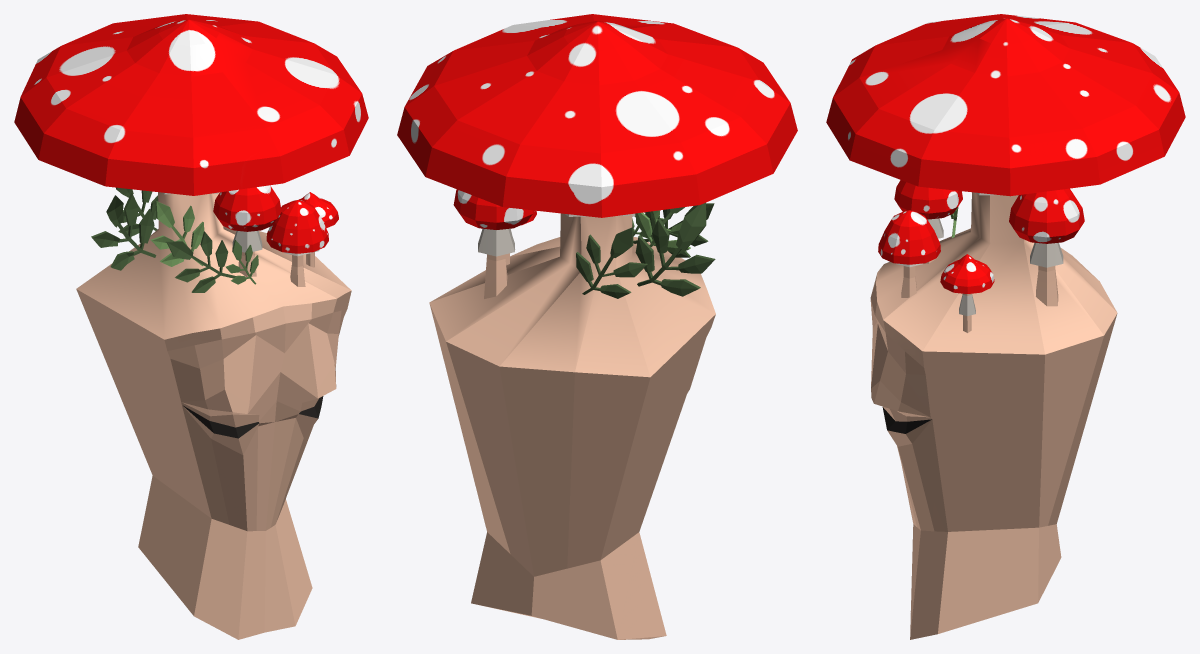
Rendered from Mushroom_head_03.fbx.
3 renders of one model, left to right at view 1: azimuth 30°, elevation 25°; view 2: azimuth 150°, elevation 25°; view 3: azimuth 270°, elevation 25°, orthographic. The views are drawn at different scales.
Visible parts, largest first — view 1: Mushroom_head_03; view 2: Mushroom_head_03; view 3: Mushroom_head_03.
Boxes of the visible parts, x1,y1,x2,y2 form: Mushroom_head_03: (14,14,368,639); Mushroom_head_03: (397,14,797,639); Mushroom_head_03: (826,14,1185,639).
Bounding box in the file's own units: 32.66 × 59.24 × 32.52.
